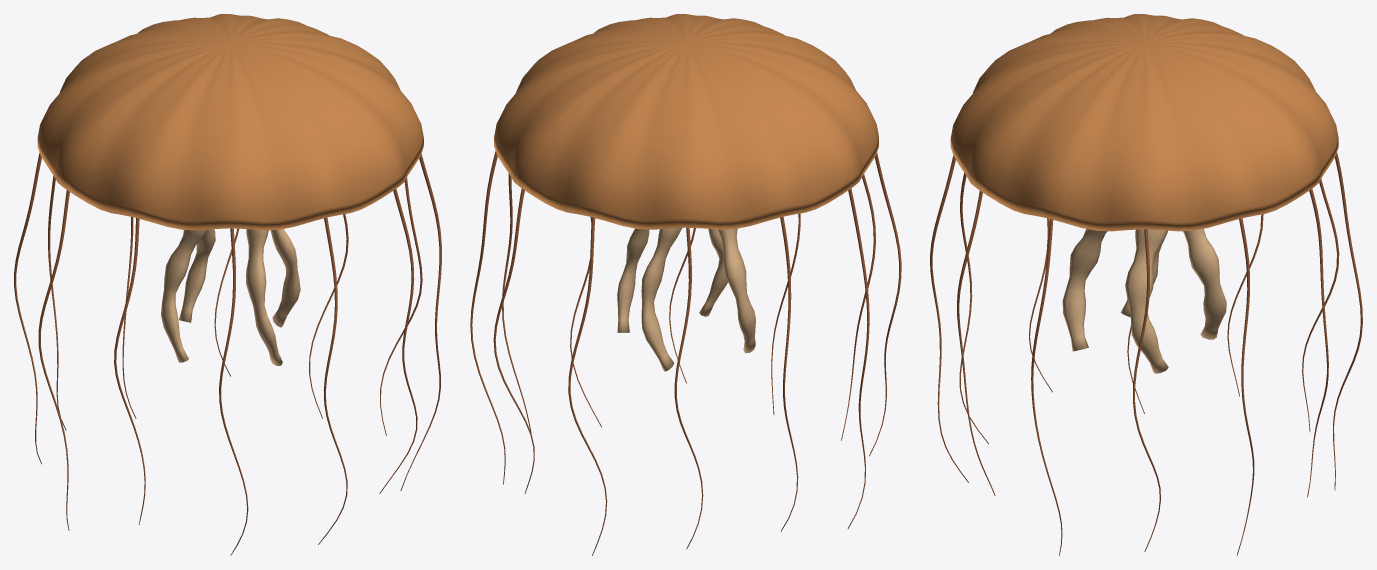
3 renders of one model, left to right at view 1: azimuth 30°, elevation 25°; view 2: azimuth 150°, elevation 25°; view 3: azimuth 270°, elevation 25°, orthographic.
Visible parts, largest first — view 1: Bell_closed_inner_outer, Oral_arm_3, Oral_arm_4, Oral_arm_1, Oral_arm_2, Marginal_tentacle_7, Marginal_tentacle_10, Marginal_tentacle_9, Marginal_tentacle_12, Marginal_tentacle_8, Marginal_tentacle_11, Marginal_tentacle_6 (+2 smaller); view 2: Bell_closed_inner_outer, Oral_arm_2, Oral_arm_3, Oral_arm_1, Marginal_tentacle_4, Marginal_tentacle_7, Marginal_tentacle_2, Marginal_tentacle_5, Oral_arm_4, Marginal_tentacle_3, Marginal_tentacle_6, Marginal_tentacle_8 (+2 smaller); view 3: Bell_closed_inner_outer, Oral_arm_1, Oral_arm_4, Oral_arm_2, Marginal_tentacle_12, Marginal_tentacle_2, Marginal_tentacle_4, Marginal_tentacle_10, Marginal_tentacle_1, Marginal_tentacle_11, Marginal_tentacle_3, Marginal_tentacle_5 (+1 smaller).
Part boxes in pixels (x1,y1,x2,y2): Bell_closed_inner_outer: (37,14,423,230); Oral_arm_3: (161,229,207,362); Oral_arm_4: (246,229,282,366); Oral_arm_1: (270,229,300,327); Oral_arm_2: (178,229,215,322); Marginal_tentacle_7: (38,190,69,530); Marginal_tentacle_10: (318,217,347,544); Marginal_tentacle_9: (219,228,248,555); Marginal_tentacle_12: (400,154,441,490); Marginal_tentacle_8: (114,218,145,524); Marginal_tentacle_11: (379,189,417,493); Marginal_tentacle_6: (14,153,41,464); Bell_closed_inner_outer: (494,14,878,229); Oral_arm_2: (641,228,681,371); Oral_arm_3: (718,228,755,353); Oral_arm_1: (617,228,649,332); Marginal_tentacle_4: (568,217,607,555); Marginal_tentacle_7: (847,188,869,528); Marginal_tentacle_2: (470,151,505,484); Marginal_tentacle_5: (674,227,703,549); Oral_arm_4: (699,229,727,316); Marginal_tentacle_3: (493,188,534,493); Marginal_tentacle_6: (780,216,798,531); Marginal_tentacle_8: (869,152,901,456); Bell_closed_inner_outer: (950,14,1338,231); Oral_arm_1: (1125,229,1168,373); Oral_arm_4: (1062,229,1107,351); Oral_arm_2: (1183,229,1226,339); Marginal_tentacle_12: (1031,219,1062,555); Marginal_tentacle_2: (1236,218,1254,555); Marginal_tentacle_4: (1333,152,1362,489); Marginal_tentacle_10: (930,155,968,482); Marginal_tentacle_1: (1133,229,1160,551); Marginal_tentacle_11: (957,191,995,495); Marginal_tentacle_3: (1307,189,1328,497); Marginal_tentacle_5: (1302,179,1339,431).
Bounding box in the file's own units: 0.7587 × 0.8662 × 0.7551.
